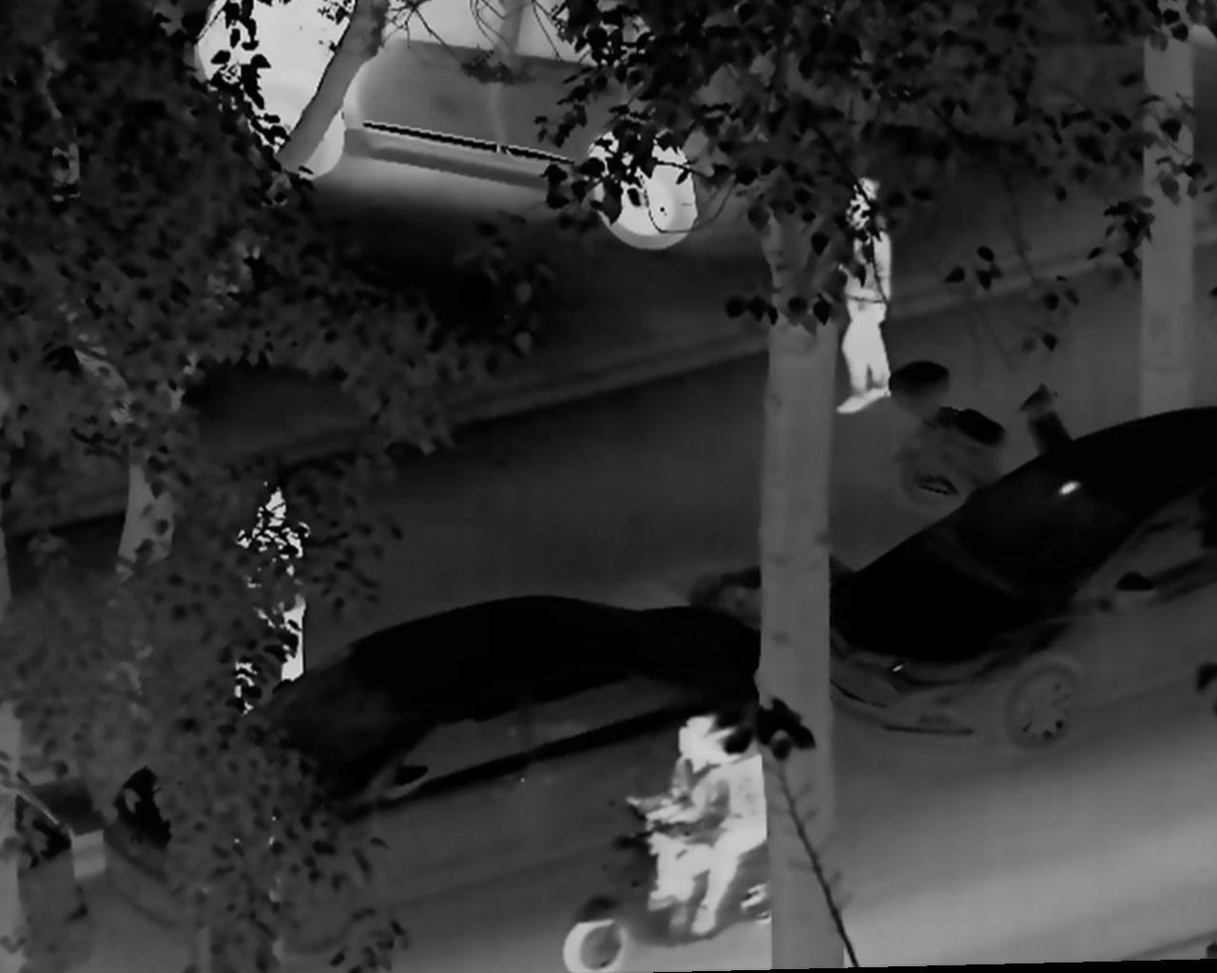person: (626, 704, 718, 926), (691, 710, 780, 939), (232, 481, 310, 716), (830, 175, 900, 420)
